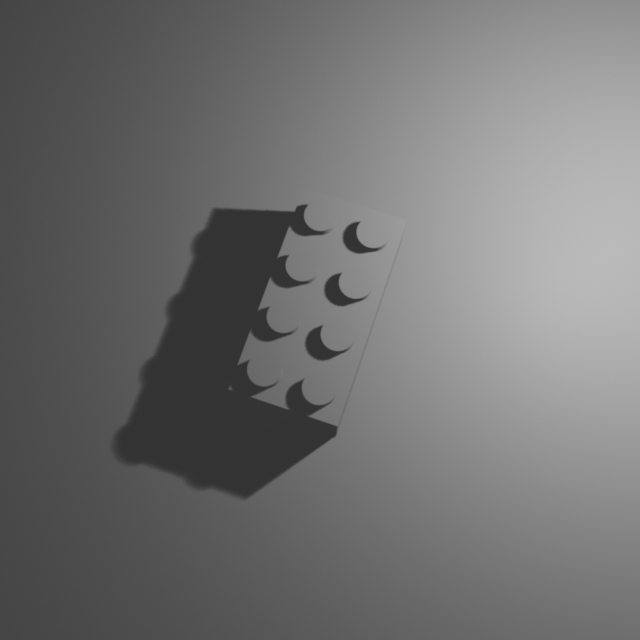lego_2x4: (227, 183, 408, 436)
